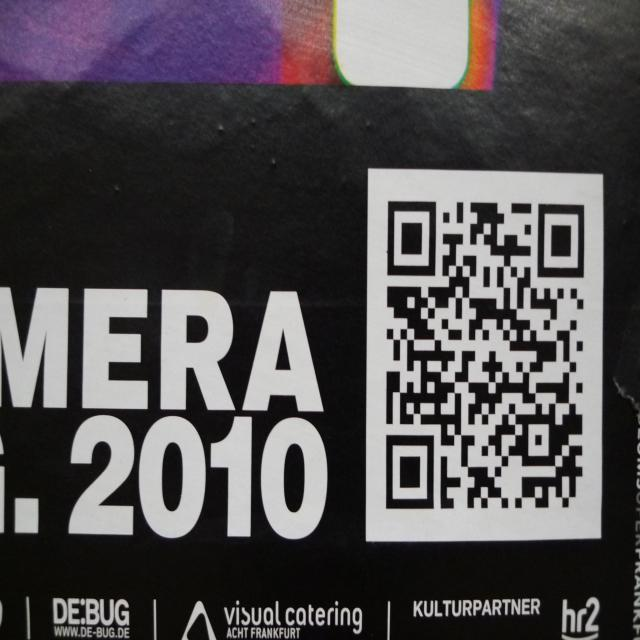qrcode: (388, 203, 585, 510)
